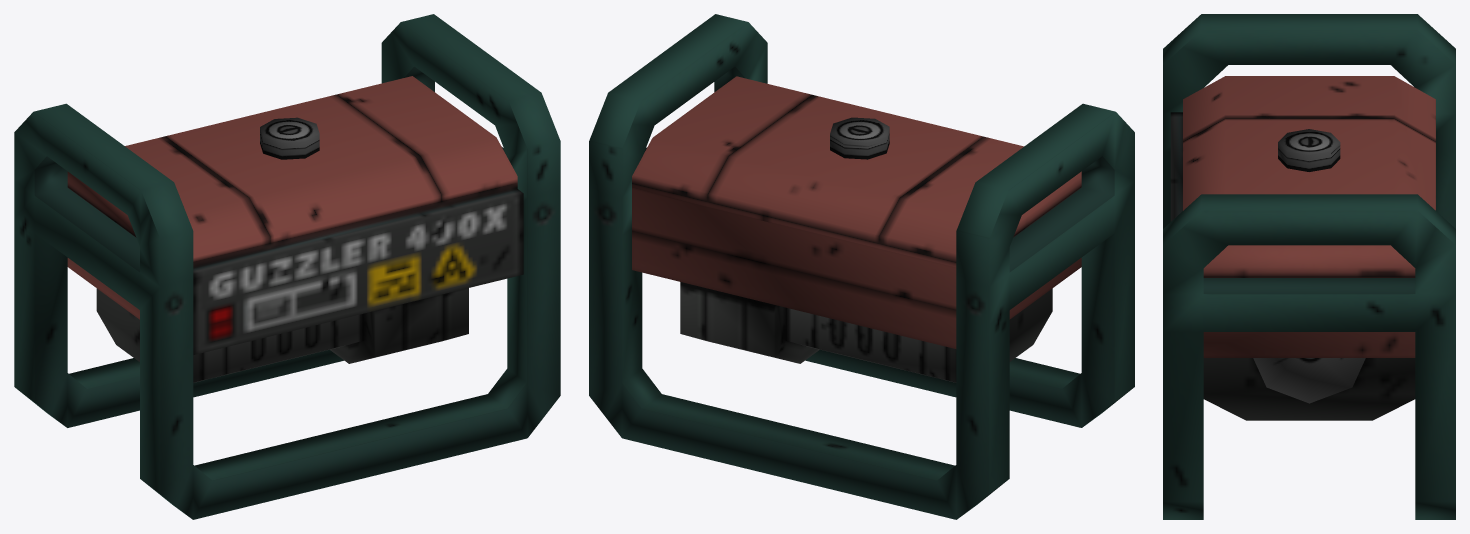
Rendered from mod_env_buildable_generator01.fbx.
3 views of the same model, side by side, from view 1: azimuth 30°, elevation 25°; view 2: azimuth 150°, elevation 25°; view 3: azimuth 270°, elevation 25° (orthographic).
Parts seen in each view (by area): view 1: polySurface2; view 2: polySurface2; view 3: polySurface2.
Boxes of the visible parts, box(x1,y1,x2,y2) form: polySurface2: box(14, 14, 560, 519); polySurface2: box(589, 14, 1134, 519); polySurface2: box(1163, 14, 1455, 519).
Size of the model in its own units: 105 by 81.05 by 66.08.
